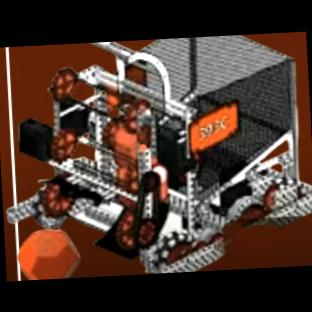Robot: (7, 35, 297, 273)
V5_RED: (18, 230, 79, 280)
